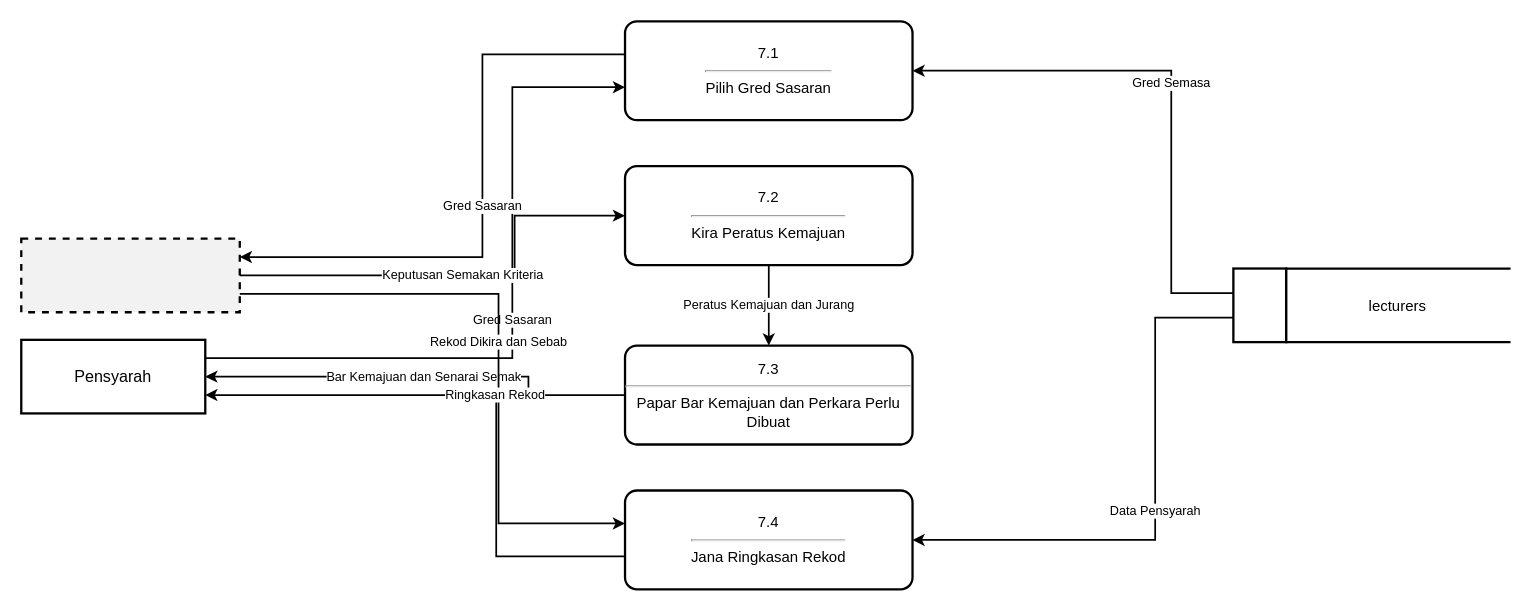
This 1530x610 diagram has some shape labels left out. The shapes that lost their labels are listed below. From the top down, each one's centre as x and y in pixels, then its label:
the point at 130,275: 6.0 Semak Kriteria Kenaikan Pangkat
the point at 1259,305: D2
